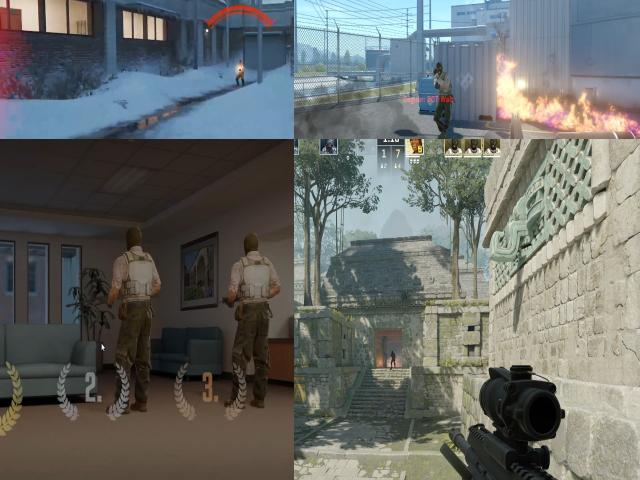CT: (389, 347, 396, 368)
CT-Head: (391, 350, 394, 354)
T: (433, 61, 452, 130), (234, 59, 244, 86)
T-Head: (435, 62, 446, 80)
